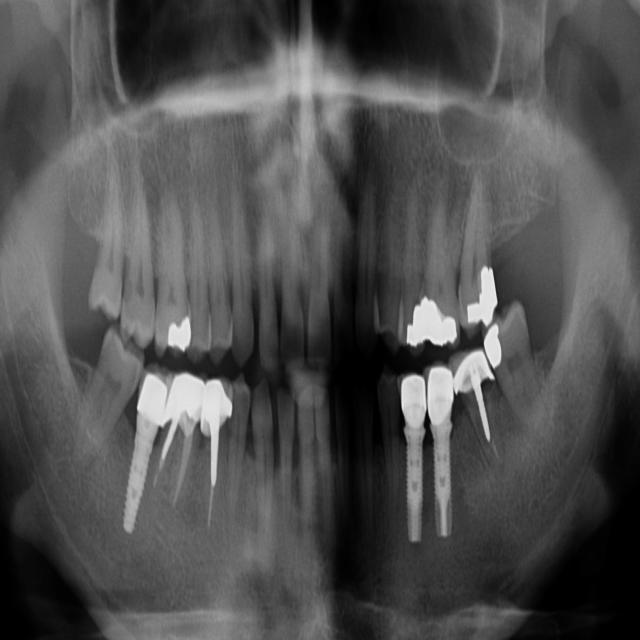dentin-curugu: (281, 324, 304, 363)
dolgu: (461, 266, 498, 322), (430, 292, 459, 342), (481, 323, 512, 365), (402, 287, 426, 341), (163, 313, 195, 349)
implant: (124, 358, 168, 550), (423, 368, 463, 540), (402, 369, 432, 555)
kanal-tedavisi: (158, 422, 198, 523), (193, 420, 227, 526), (472, 380, 507, 467)
kaplama: (452, 351, 491, 394), (170, 372, 202, 420), (198, 381, 232, 425)
